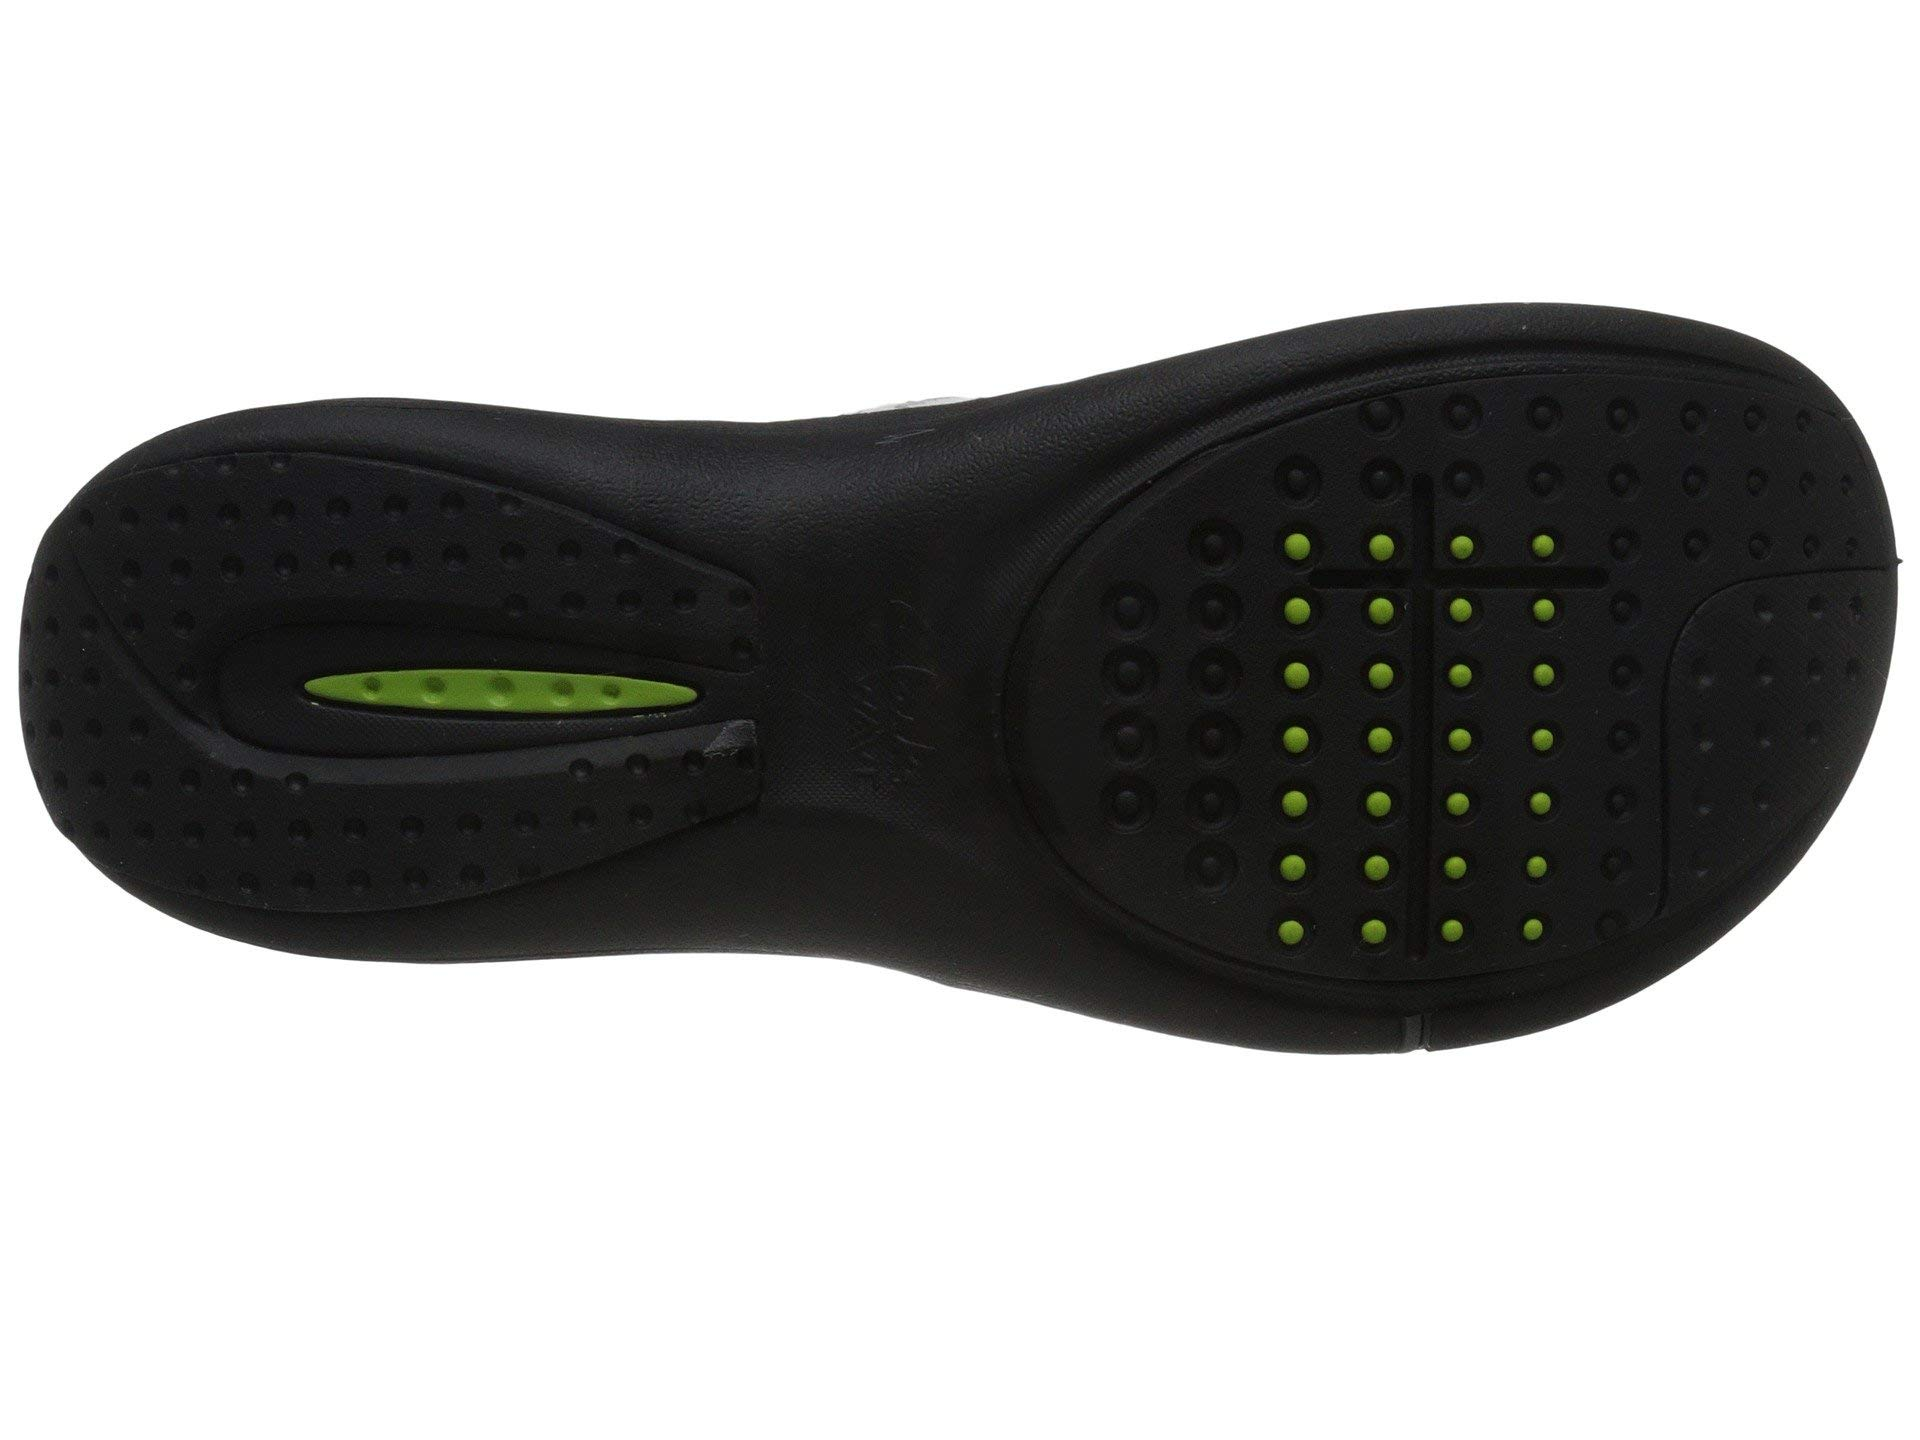circle: (1181, 495, 1674, 902), (57, 560, 274, 835)
line: (1181, 495, 1674, 902), (57, 560, 274, 835)
text: (800, 554, 989, 820)
